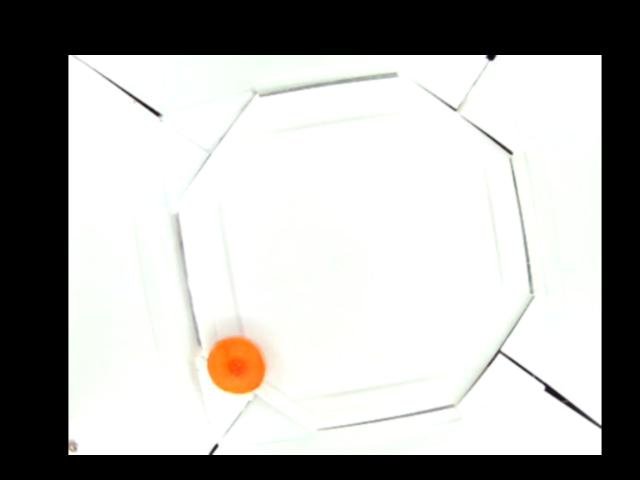Carrot: (207, 336, 266, 394)
